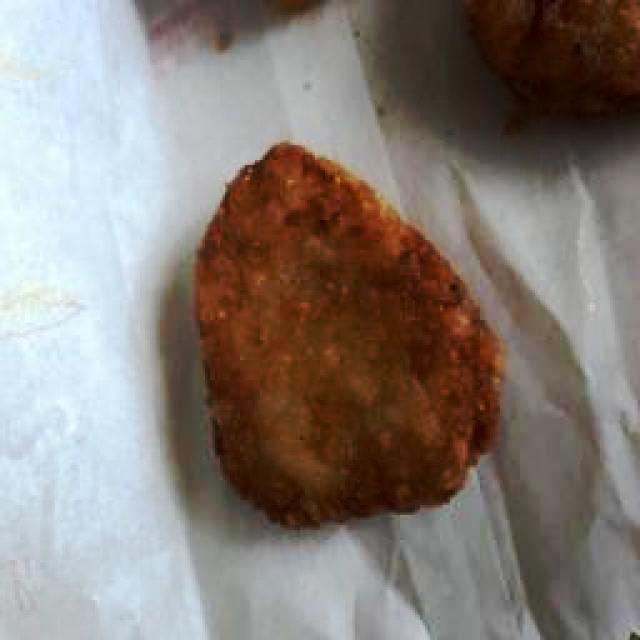Hashbrown: (198, 141, 501, 523)
